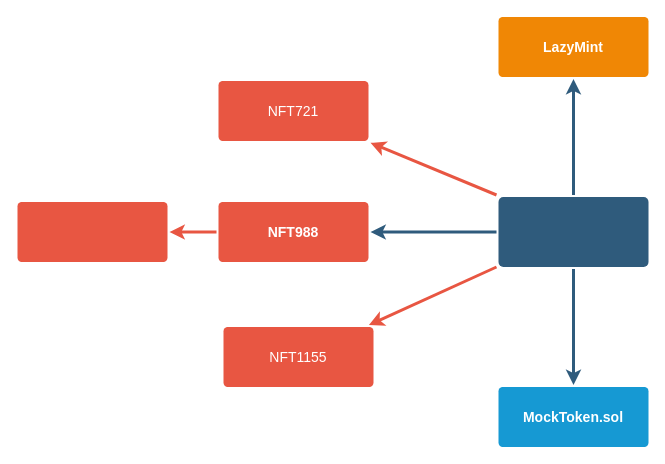
The diagram is 665 pixels wide and 464 high, and some of its shapes have lost their labels. The shapes that lost their labels are listed below. From the top down, each one's box as (x1, y1, x2, y2) in pixels, then its label:
(17, 202, 167, 262): Appeal
(498, 196, 648, 266): Marketplace
